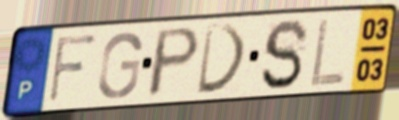D: (194, 22, 250, 98)
F: (46, 31, 100, 106)
G: (96, 30, 145, 101)
L: (308, 15, 348, 90)
P: (144, 24, 204, 101)
S: (258, 17, 312, 93)
